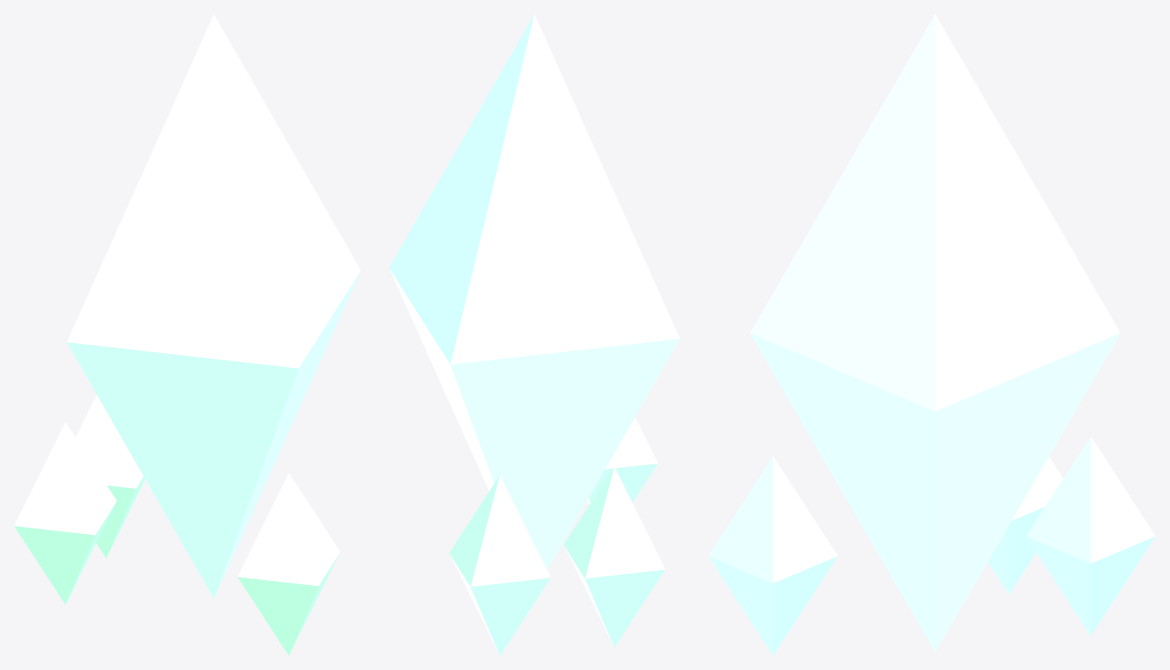
Rendered from crystal_2.glb.
The picture shows the model from 3 angles, left to right: view 1: azimuth 30°, elevation 25°; view 2: azimuth 150°, elevation 25°; view 3: azimuth 270°, elevation 25°; orthographic projection. The views are drawn at different scales.
Visible parts, largest first — view 1: crystal_2; view 2: crystal_2; view 3: crystal_2.
Part boxes in pixels (<box>): crystal_2: <box>14,14,360,655</box>; crystal_2: <box>389,14,679,655</box>; crystal_2: <box>708,14,1155,655</box>.
Size of the model in its own units: 0.8518 by 1.53 by 0.9657.
